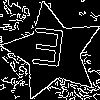E: (28, 27, 67, 77)
